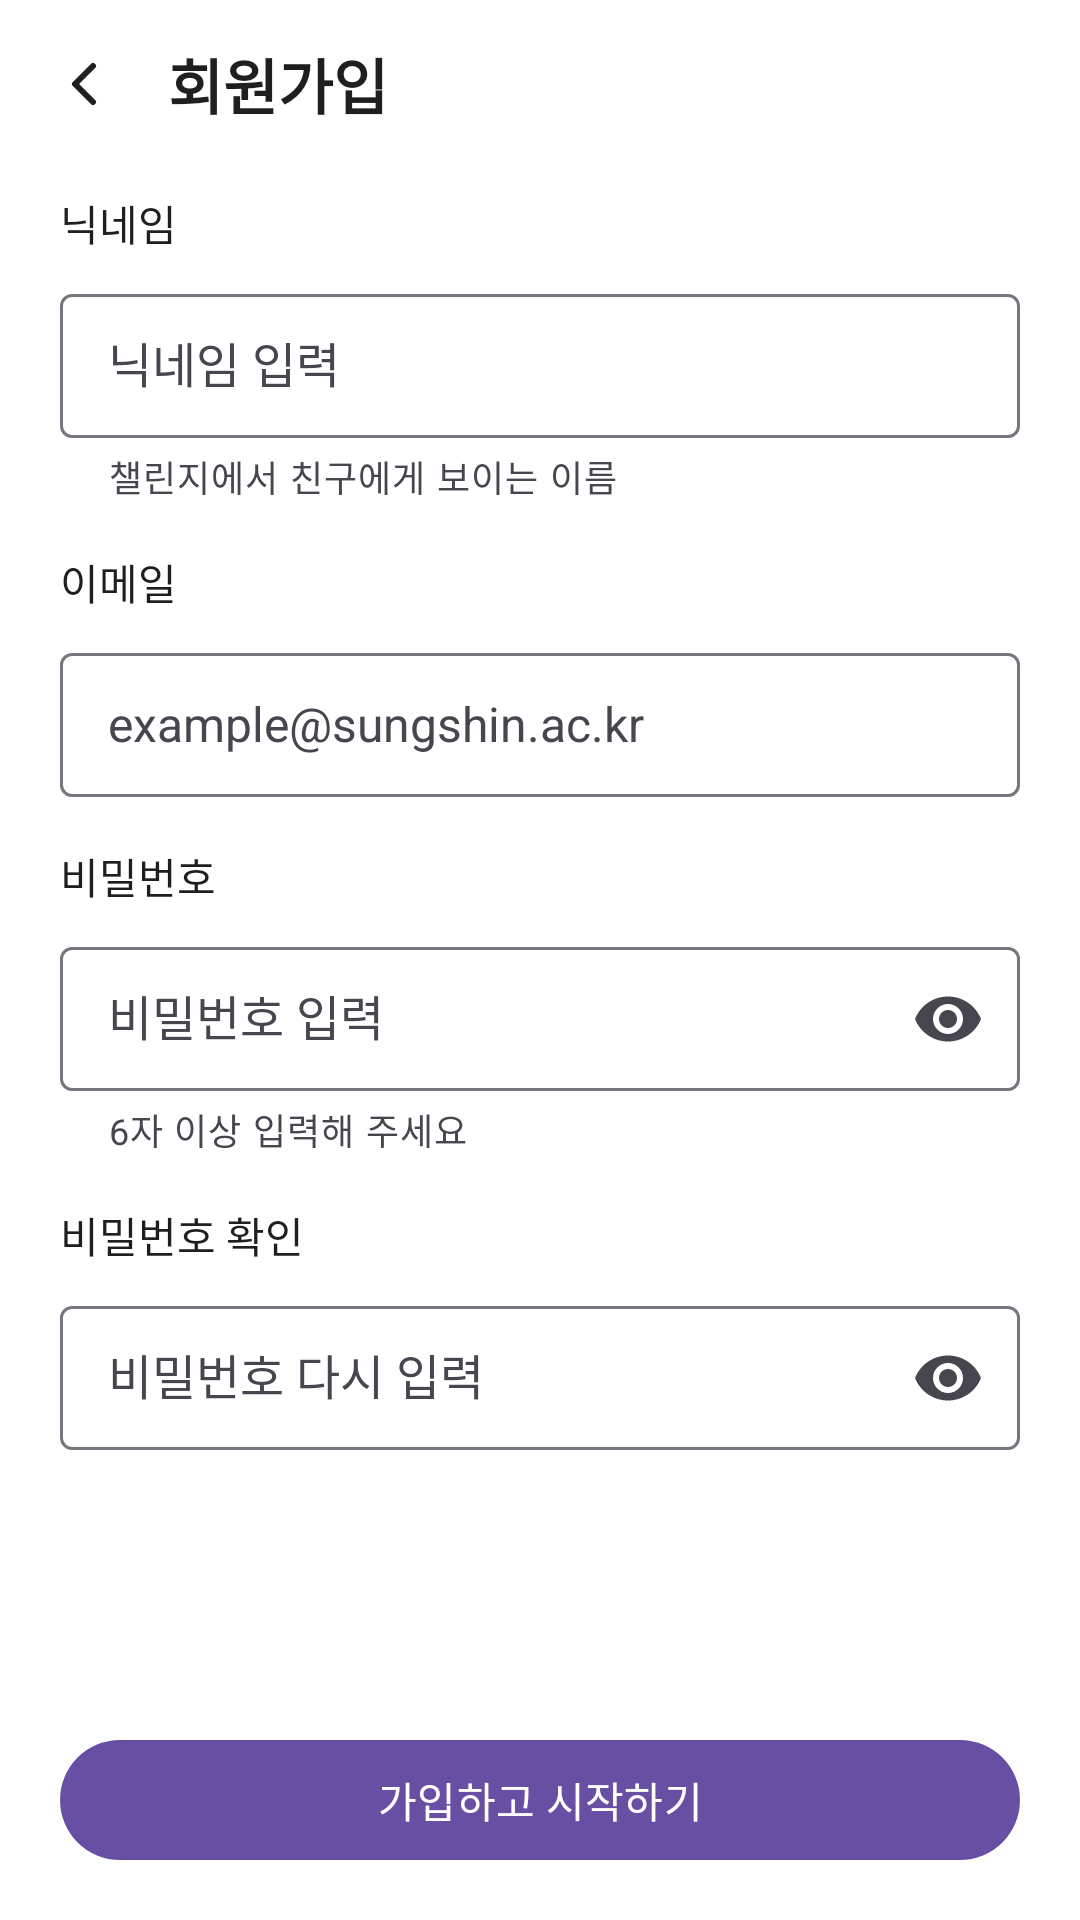

Where icons sit on this 1080w x 1920h app screen, as (x1, y1, x2, y2):
뒤로 가기: (72, 63, 96, 105)
